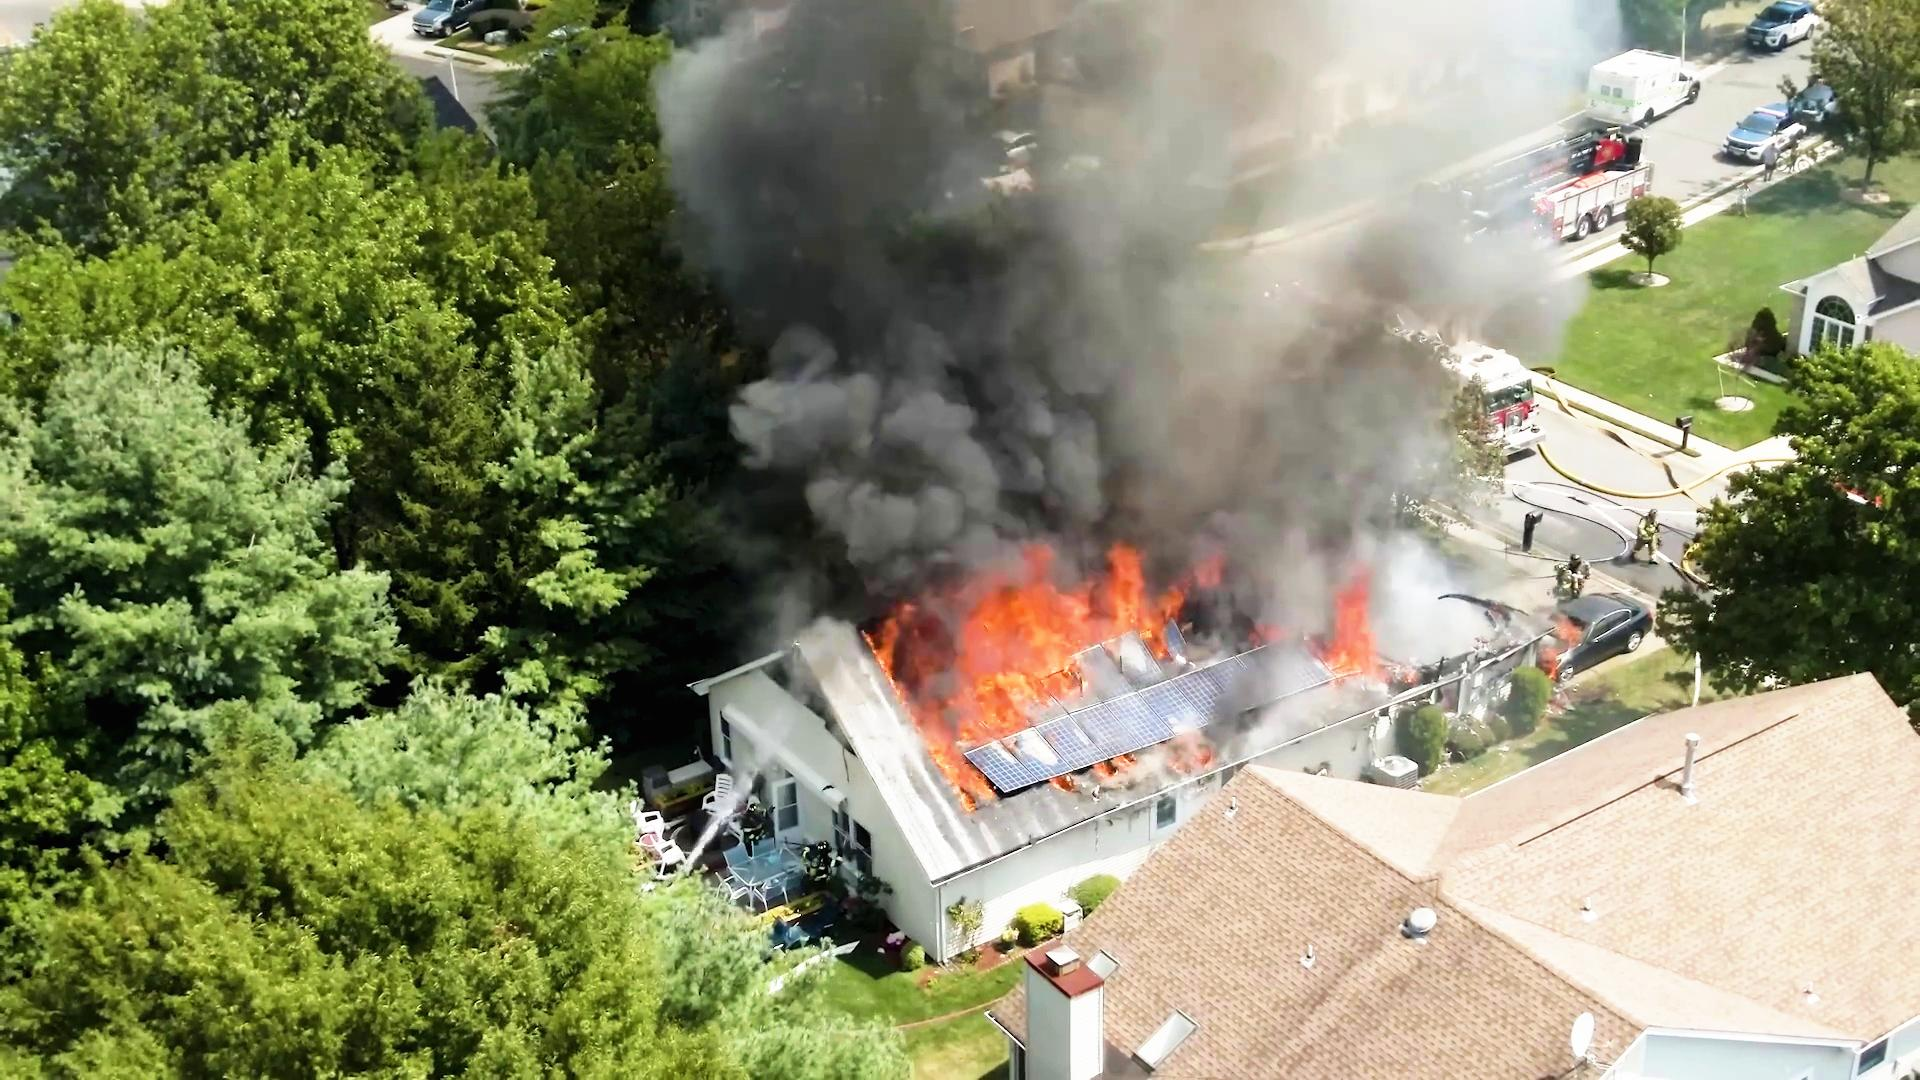fire: (906, 558, 1167, 762)
